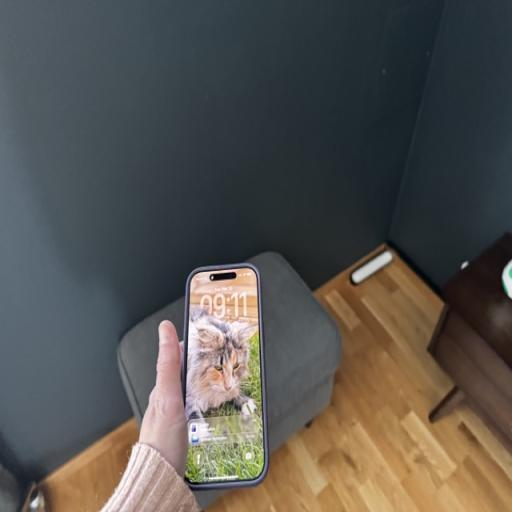phone: (184, 275, 279, 498)
